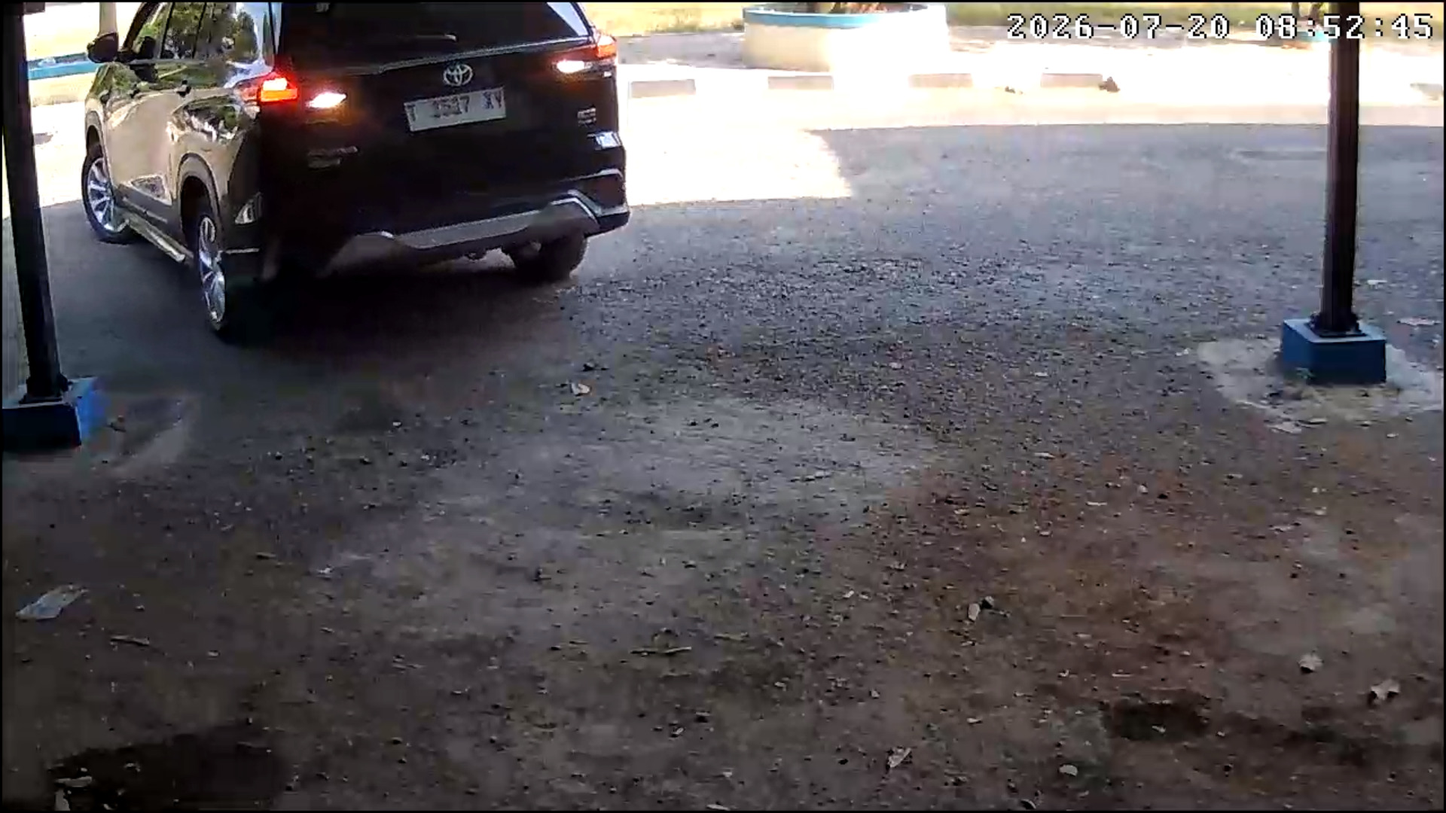plat nomor: (401, 84, 508, 136)
